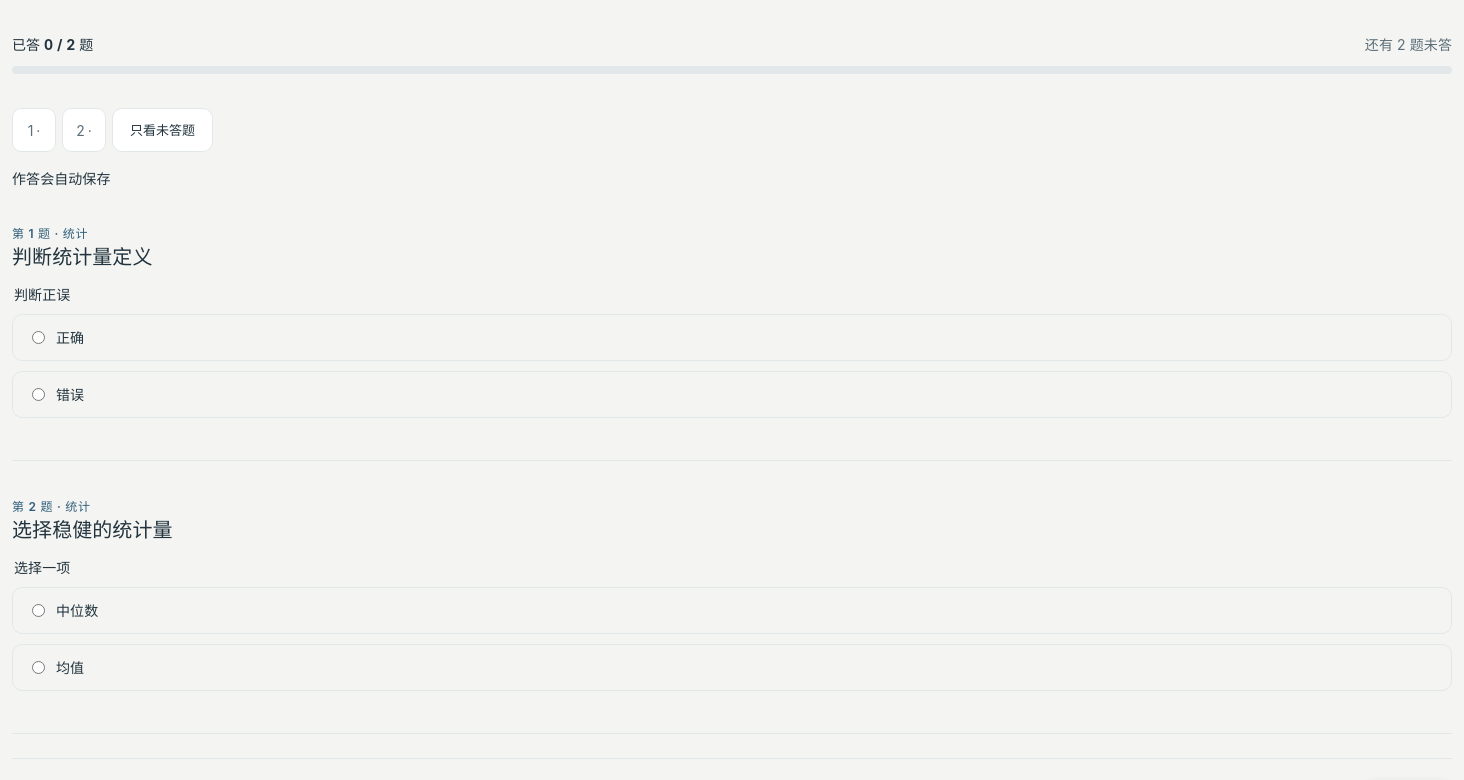
Scenario: question navigation treats false as answered and preserves keyboard focus while answering filtered questions
The image size is (1464, 780).
Click the radio button labelled "错误" at [38, 394], box [32,388,45,401]
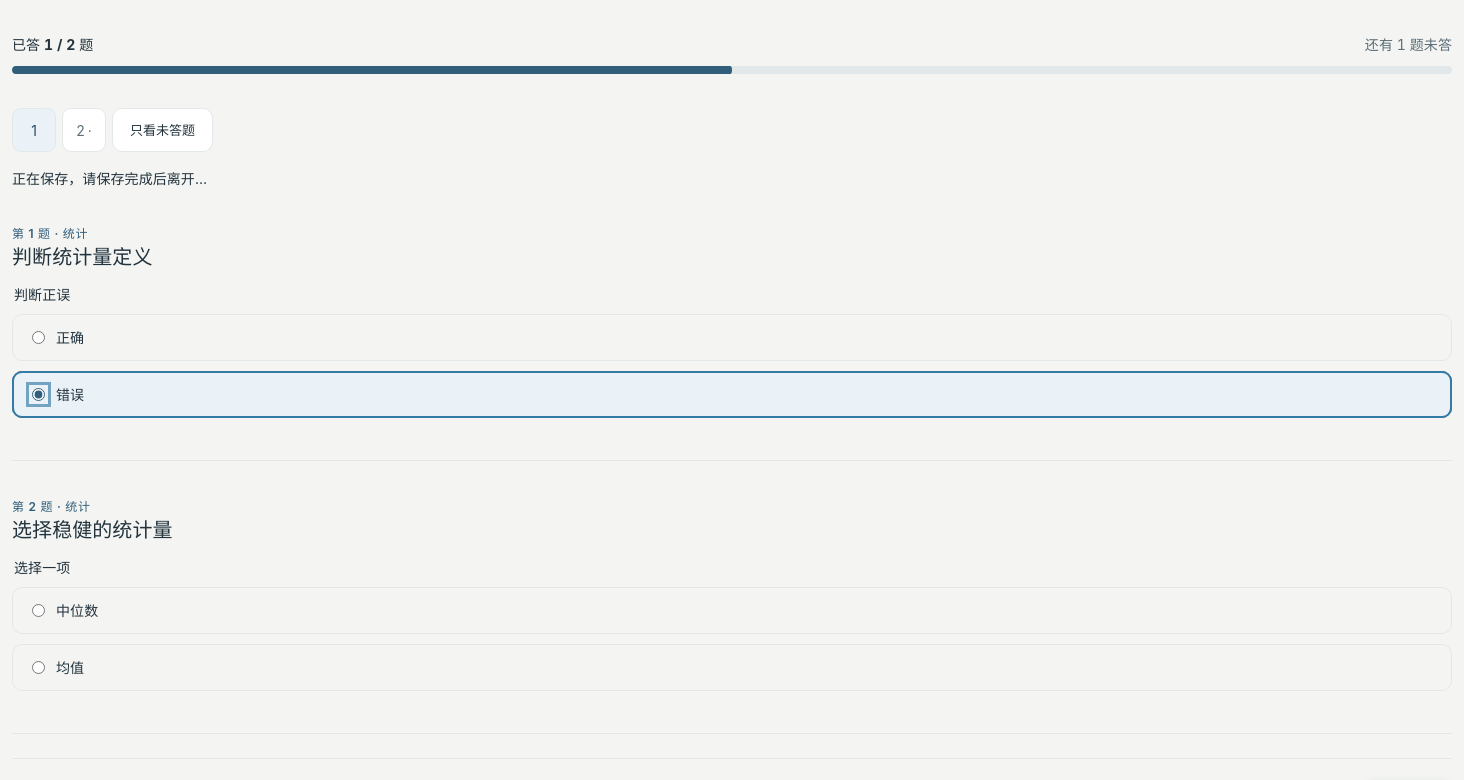
Check: the button named "第 1 题 · 已答" is shown, box [12,108,56,152]
Click the button "只看未答题" at [162, 130], box [112,108,213,152]
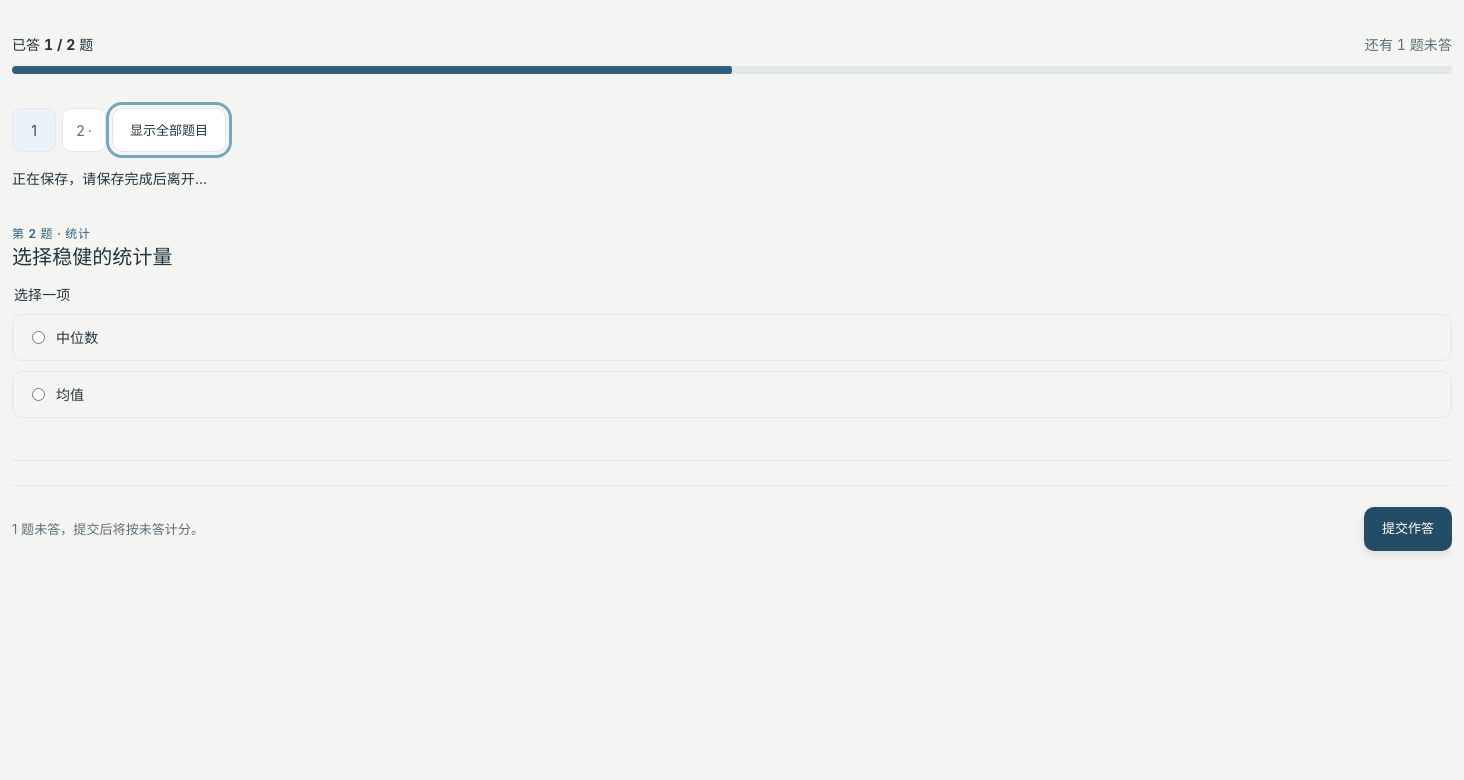
Check: the heading "判断统计量定义" is gone
Click the radio button labelled "中位数" at [38, 338], box [32,331,45,344]
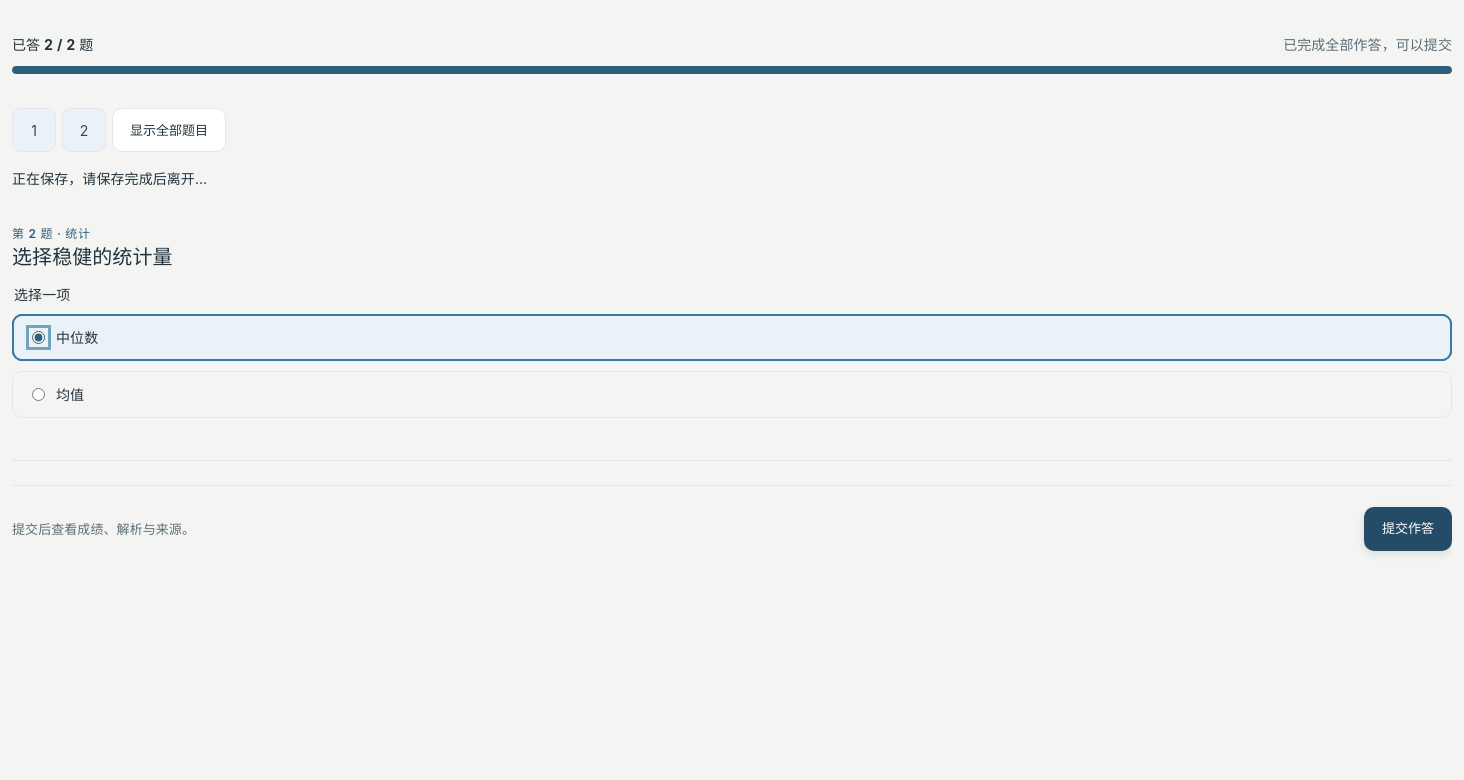
Check: the radio button labelled "中位数" is checked, box [32,331,45,344]
Click the button named "第 1 题 · 已答" at [34, 130], box [12,108,56,152]
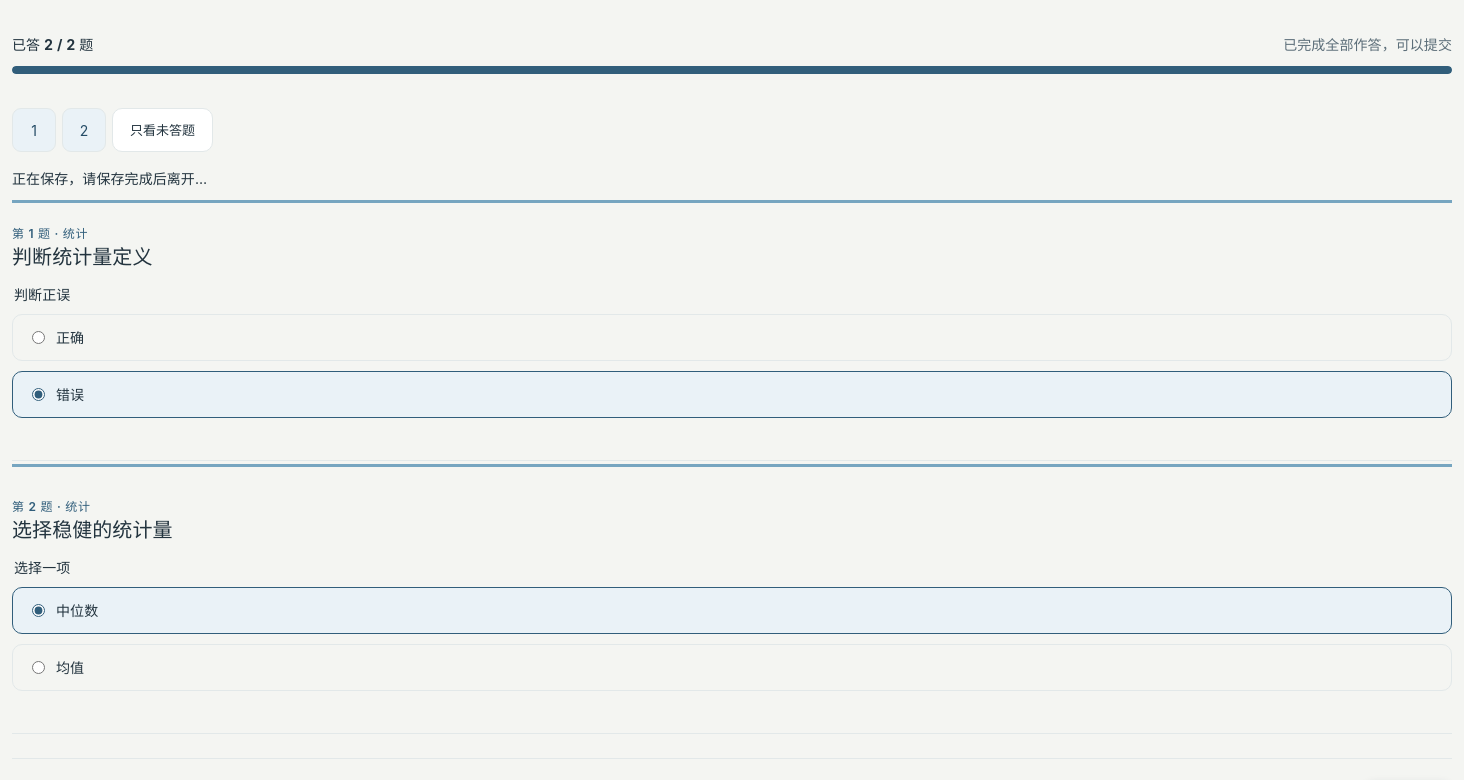
Check: the heading "判断统计量定义" is shown, box [12,245,152,269]
